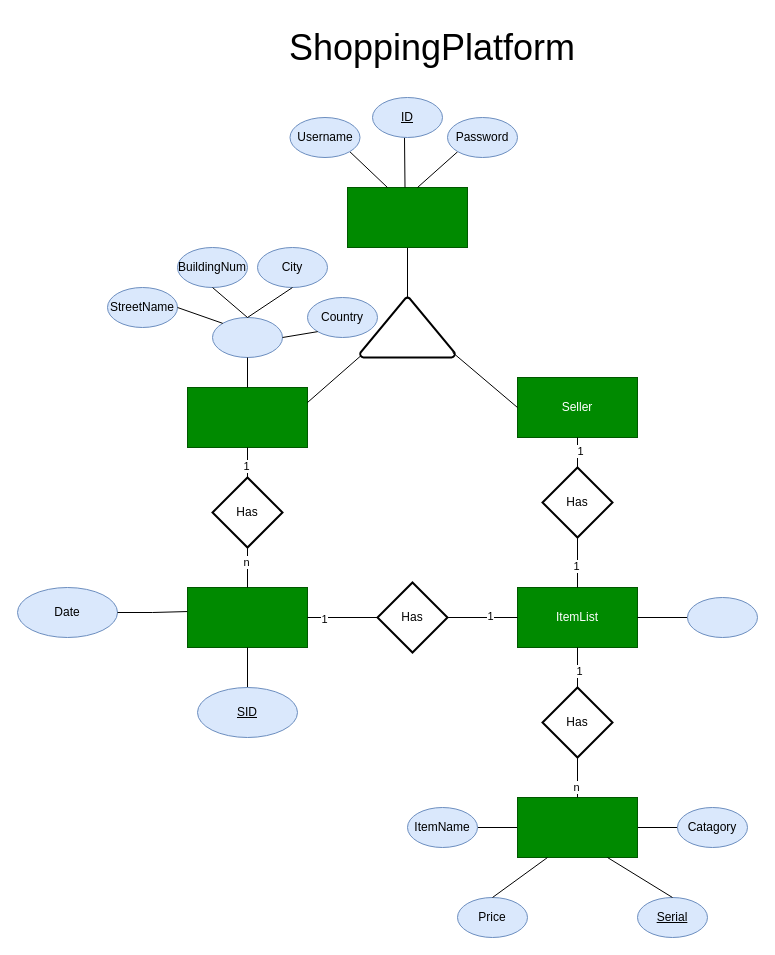
This 775x955 diagram has some shape labels left out. Each missing label, with the centre of its shape:
"Address" goes at (x=247, y=337).
"Buyer" goes at (x=247, y=417).
"IS-A" goes at (x=407, y=327).
"Item" goes at (x=577, y=827).
"LID" goes at (x=722, y=617).
"ShoppingCart" goes at (x=247, y=617).
"User" goes at (x=407, y=217).
